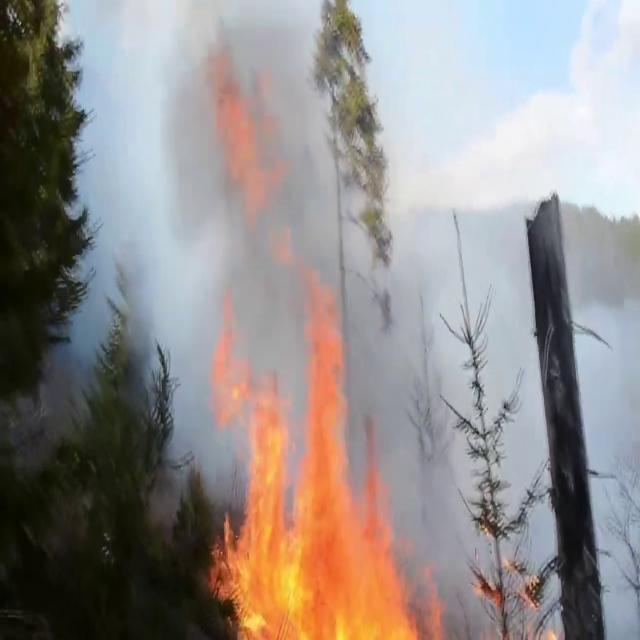Fire: (209, 283, 432, 640)
Smoke: (101, 0, 384, 461), (365, 135, 640, 541)
